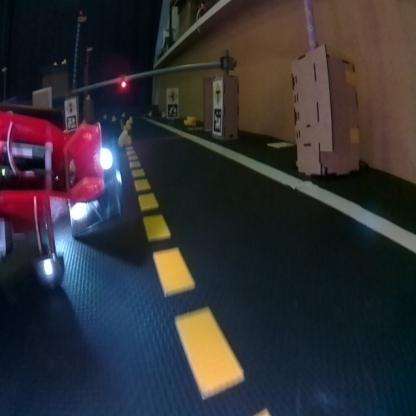duckiebot: (0, 76, 129, 318)
